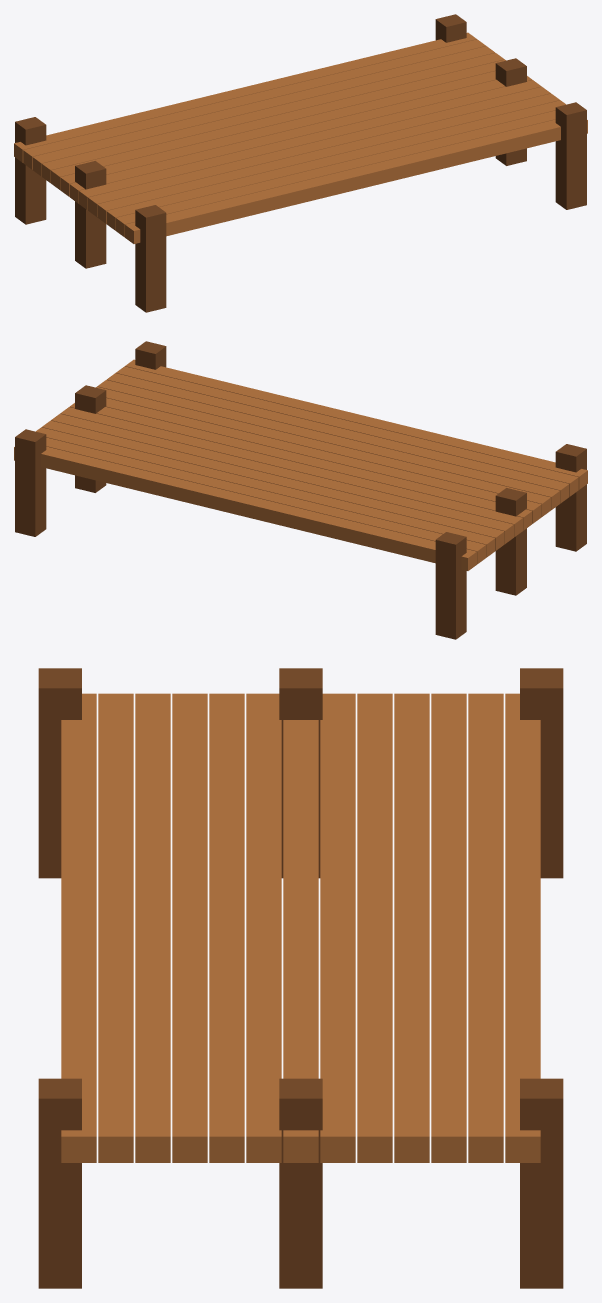
The model's file is boat_dock_small.fbx.
The picture shows the model from 3 angles, top to bottom: view 1: azimuth 30°, elevation 25°; view 2: azimuth 150°, elevation 25°; view 3: azimuth 270°, elevation 25°; orthographic projection. The views are drawn at different scales.
Visible parts, largest first — view 1: boat_dock_small; view 2: boat_dock_small; view 3: boat_dock_small.
Boxes of the visible parts, x1,y1,x2,y2 form: boat_dock_small: [14, 14, 587, 312]; boat_dock_small: [14, 341, 587, 639]; boat_dock_small: [38, 668, 563, 1288].
Bounding box in the file's own units: 4 × 0.8 × 2.
